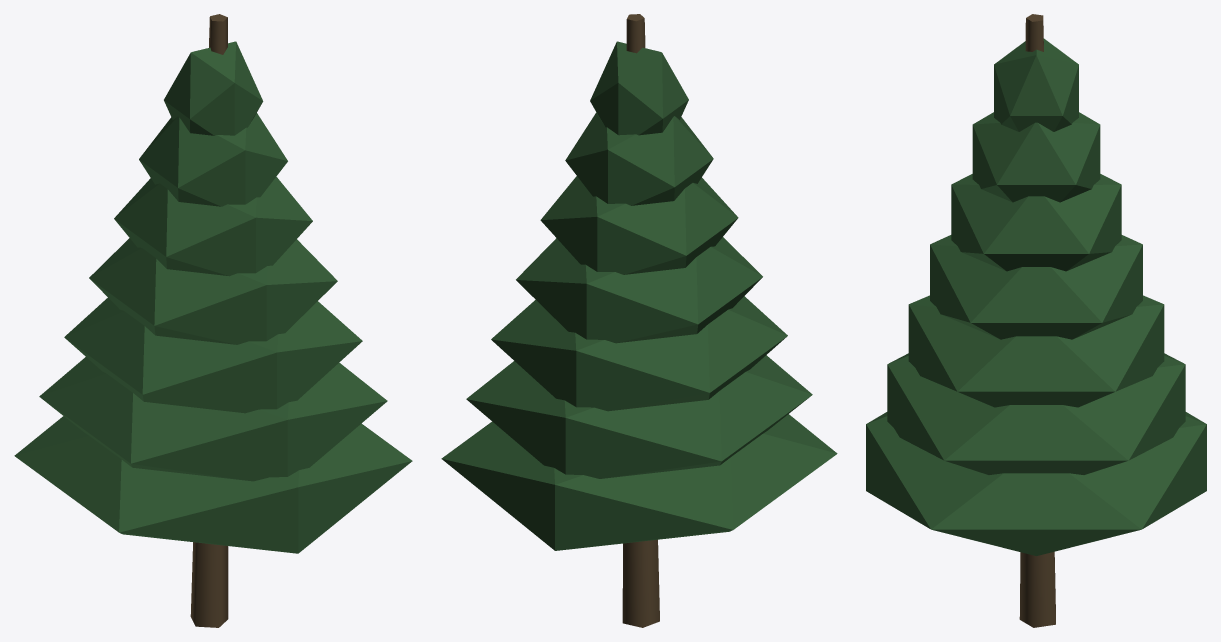
3 views of the same model, side by side, from view 1: azimuth 30°, elevation 25°; view 2: azimuth 150°, elevation 25°; view 3: azimuth 270°, elevation 25° (orthographic).
Visible parts, largest first — view 1: pine-leaf; view 2: pine-leaf; view 3: pine-leaf.
Part boxes in pixels (x1,y1,x2,y2): pine-leaf: (14, 14, 412, 627); pine-leaf: (441, 14, 837, 627); pine-leaf: (866, 14, 1206, 627).
Bounding box in the file's own units: 5.1 × 10.01 × 5.1.
